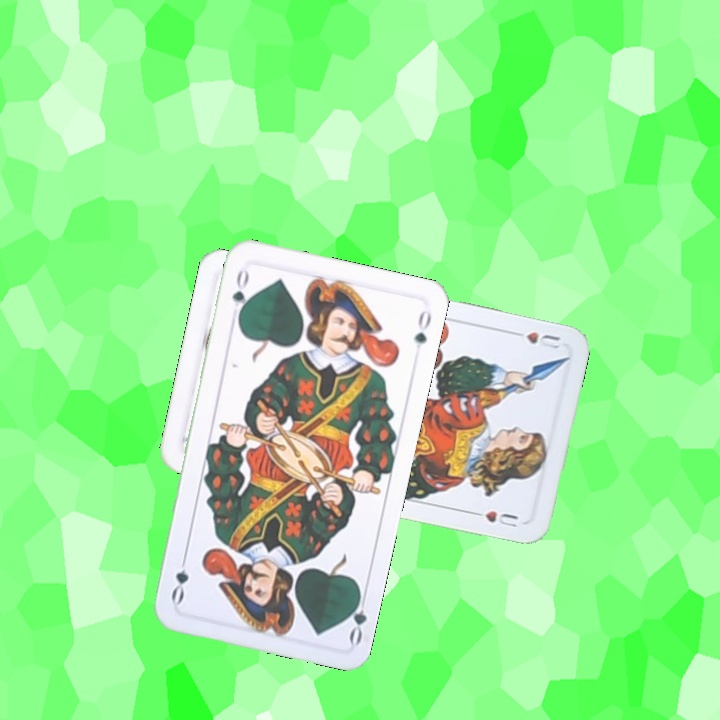GO: (341, 586, 370, 647), (227, 264, 252, 322)
HU: (506, 327, 563, 352)
